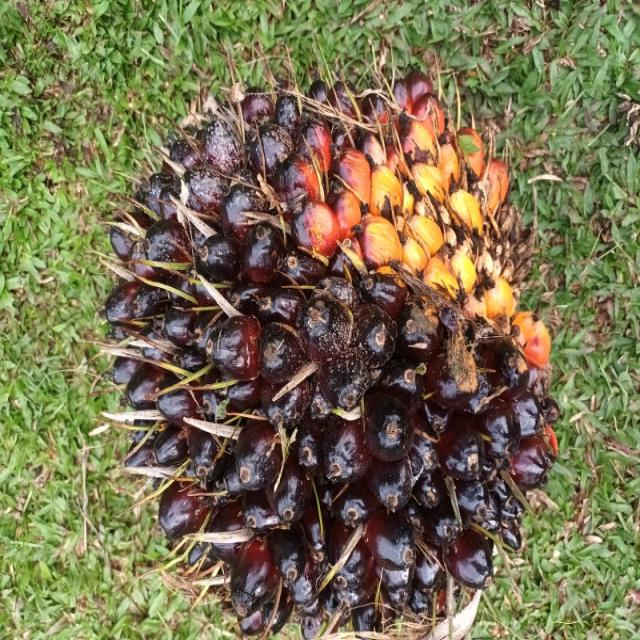fraksi 00: (3, 77, 430, 640)
